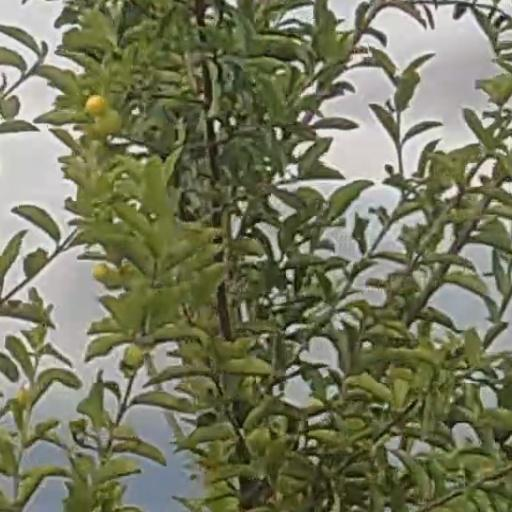acerola_verde: (98, 114, 123, 134), (88, 95, 107, 116)
